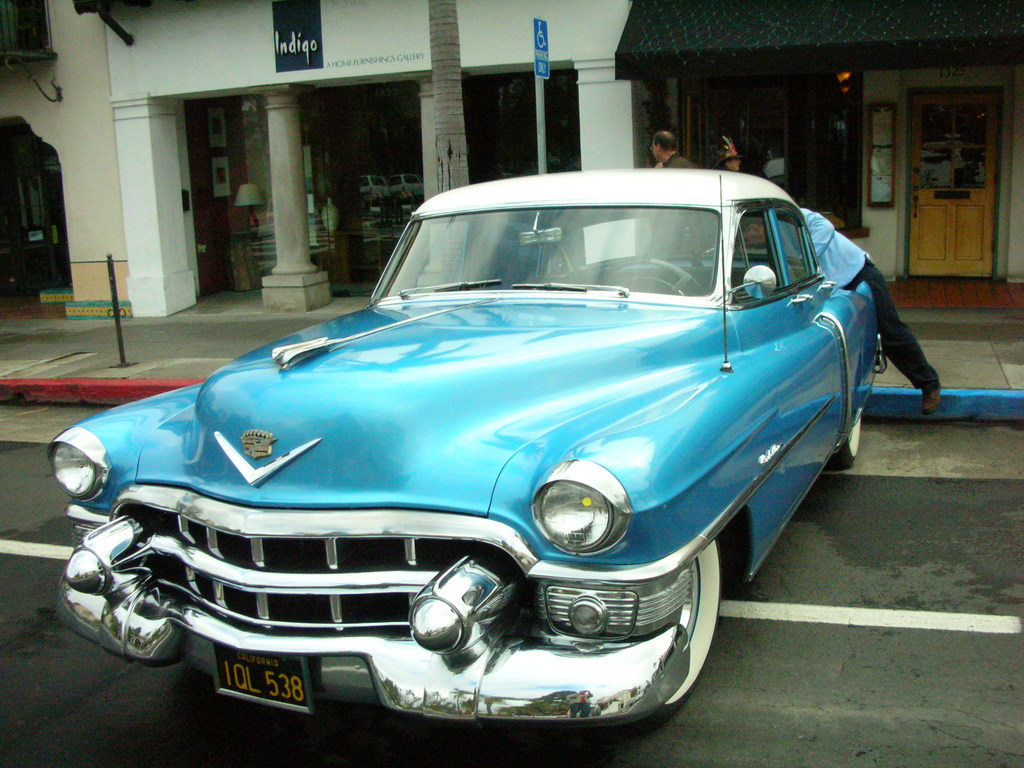person: (647, 127, 700, 168)
